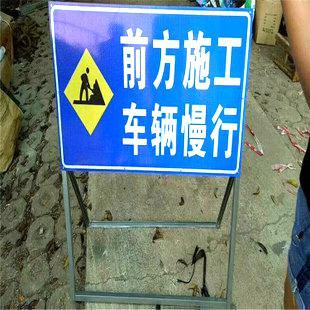sign: (51, 4, 250, 176)
